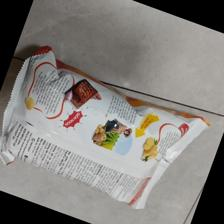Lays: (1, 45, 209, 212)
